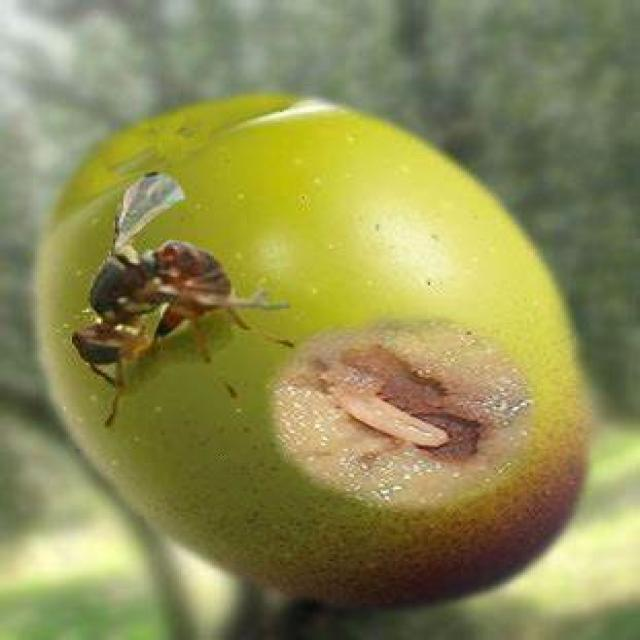Anthracnose: (35, 95, 593, 605)
